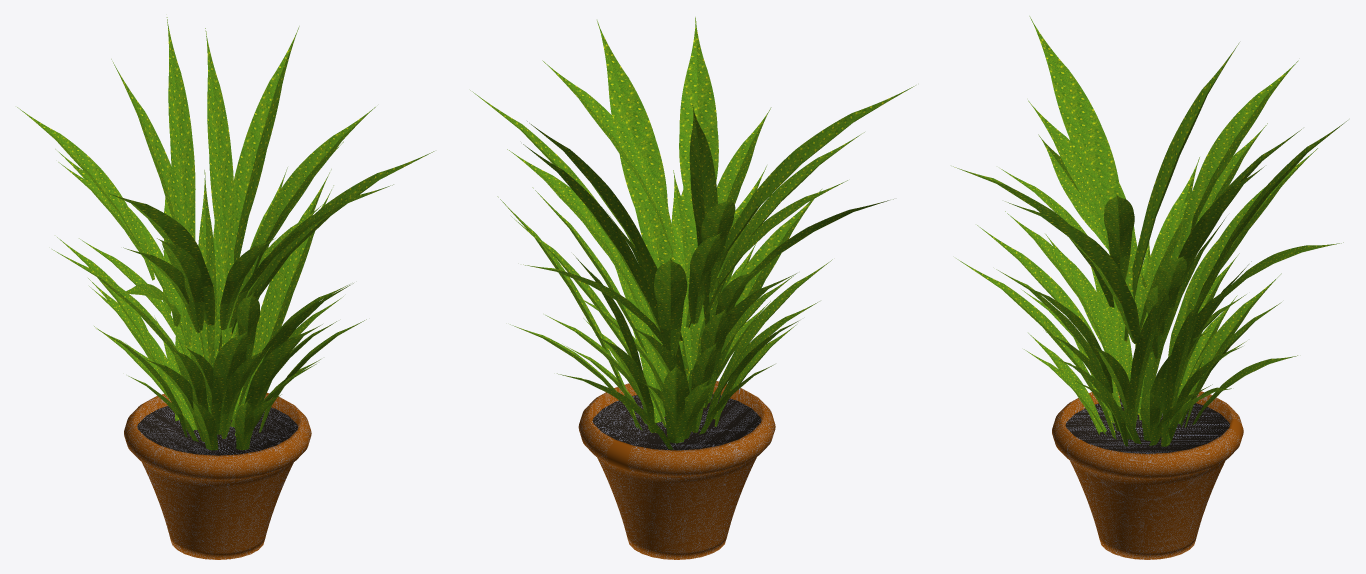
File: plant1.dae
3 renders of one model, left to right at view 1: azimuth 30°, elevation 25°; view 2: azimuth 150°, elevation 25°; view 3: azimuth 270°, elevation 25°, orthographic. The views are drawn at different scales.
Parts seen in each view (by area): view 1: Component_1 (×36), SketchUp (×2); view 2: Component_1 (×43), SketchUp (×4); view 3: Component_1 (×46), SketchUp (×2).
Boxes of the visible parts, bbox=[...] form: Component_1 (×36): bbox=[17, 17, 434, 438]; SketchUp (×2): bbox=[124, 393, 311, 559]; Component_1 (×43): bbox=[470, 17, 915, 449]; SketchUp (×4): bbox=[573, 254, 775, 559]; Component_1 (×46): bbox=[956, 16, 1346, 446]; SketchUp (×2): bbox=[1052, 391, 1242, 559].
Bounding box in the file's own units: 134 × 144 × 184.
4 materials, 1 textured.
